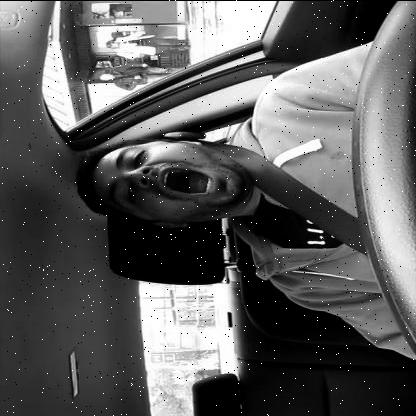seatbelt: (65, 112, 354, 274)
